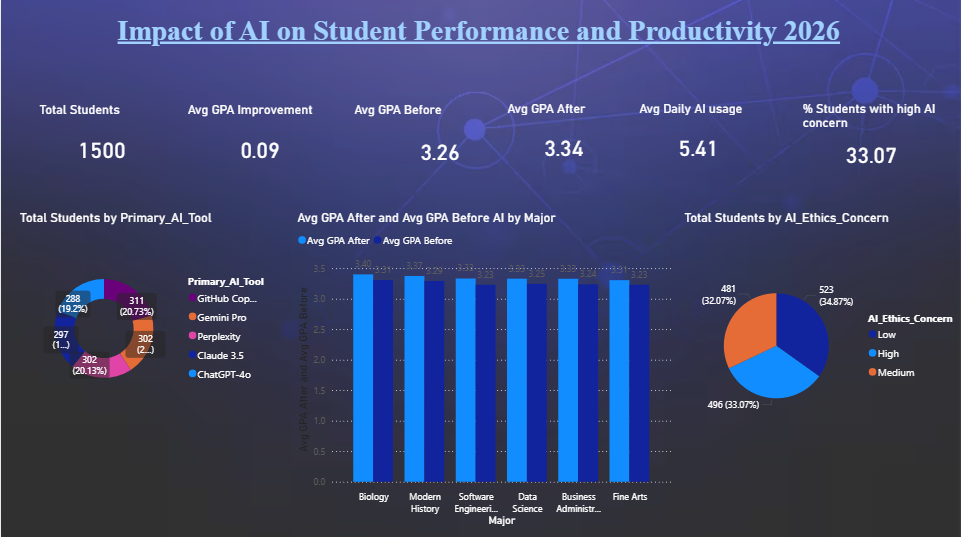

This screenshot's page, from the dashboard's own definition file:
{"tool":"powerbi","page":{"name":"Page 1","canvas":[1280,720],"ordinal":0},"visuals":[{"type":"card","title":"Avg GPA Improvement","fields":{"Values":["AI_Impact_Student_Life_2026.Avg GPA Improvement"]},"box":[244,136,202,104],"z":0},{"type":"card","title":"Total Students","fields":{"Values":["AI_Impact_Student_Life_2026.Total Students"]},"box":[46,136,176,104],"z":1000},{"type":"card","title":"Avg GPA Before","fields":{"Values":["AI_Impact_Student_Life_2026.Avg GPA Before"]},"box":[466,136,238,110],"z":2000},{"type":"card","title":"Avg GPA After","fields":{"Values":["AI_Impact_Student_Life_2026.Avg GPA After"]},"box":[670,134,160,104],"z":3000},{"type":"card","title":"Avg Daily AI usage","fields":{"Values":["AI_Impact_Student_Life_2026.Avg Daily Usage"]},"box":[846,134,166,104],"z":4000},{"type":"card","title":"% Students with high AI concern","fields":{"Values":["AI_Impact_Student_Life_2026.Pct High Ethics Concern"]},"box":[1064,134,192,104],"z":5000},{"type":"clusteredColumnChart","title":"Avg GPA After and Avg GPA Before AI  by Major","fields":{"Category":["AI_Impact_Student_Life_2026.Major"],"Y":["AI_Impact_Student_Life_2026.Avg GPA After","AI_Impact_Student_Life_2026.Avg GPA Before"]},"box":[390,280,508,426],"z":6000},{"type":"donutChart","fields":{"Category":["AI_Impact_Student_Life_2026.Primary_AI_Tool"],"Y":["AI_Impact_Student_Life_2026.Total Students"]},"box":[20,280,348,296],"z":7000},{"type":"pieChart","fields":{"Category":["AI_Impact_Student_Life_2026.AI_Ethics_Concern"],"Y":["AI_Impact_Student_Life_2026.Total Students"]},"box":[906,280,374,342],"z":8000},{"type":"textbox","box":[150,14,1108,56],"z":9000}]}

Visuals, with their boxes in screenshot pixels (x1, y1, x2, y2), scaled from the page's 1280x720 canvas onto the 961x537 screenshot:
"Avg GPA Improvement" card: 183 101 335 179
"Total Students" card: 35 101 167 179
"Avg GPA Before" card: 350 101 529 183
"Avg GPA After" card: 503 100 623 178
"Avg Daily AI usage" card: 635 100 760 178
"% Students with high AI concern" card: 799 100 943 178
"Avg GPA After and Avg GPA Before AI  by Major" clusteredColumnChart: 293 209 674 527
donutChart - AI_Impact_Student_Life_2026.Primary_AI_Tool x AI_Impact_Student_Life_2026.Total Students: 15 209 276 430
pieChart - AI_Impact_Student_Life_2026.AI_Ethics_Concern x AI_Impact_Student_Life_2026.Total Students: 680 209 960 464
textbox: 113 10 944 52
